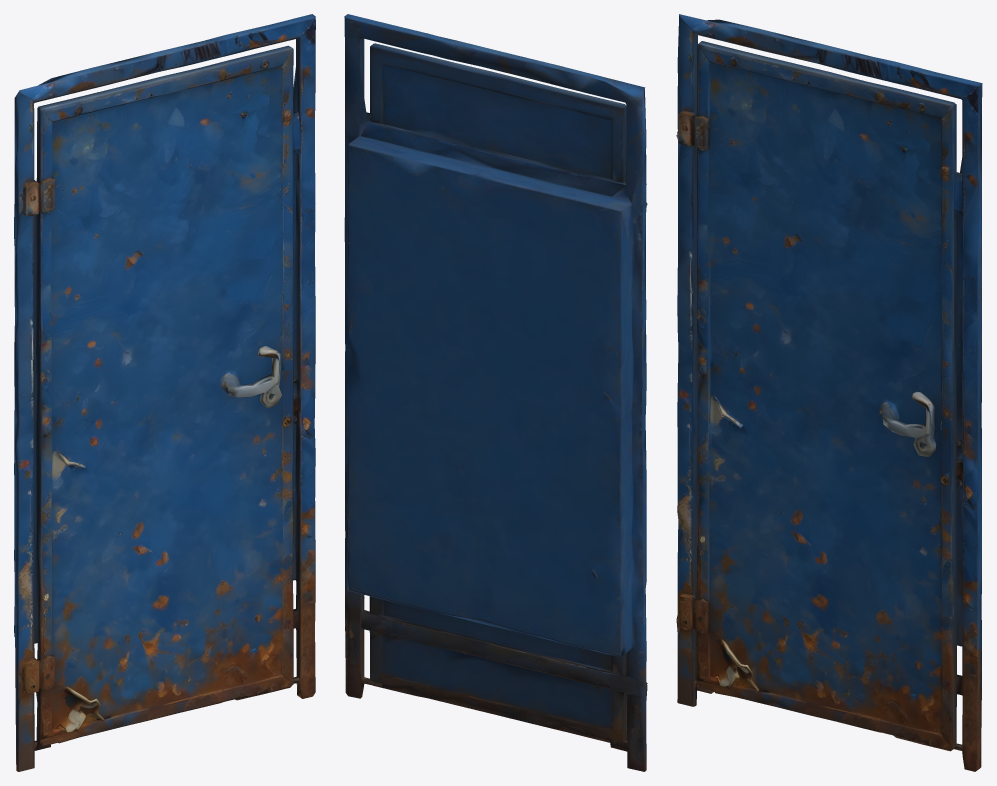
File: level-xw0-blue-door.glb
3 renders of one model, left to right at view 1: azimuth 30°, elevation 25°; view 2: azimuth 150°, elevation 25°; view 3: azimuth 330°, elevation 25°, orthographic.
Parts seen in each view (by area): view 1: tripo_node_d5b39042-739c-4999-9ec3-1a44aa424415; view 2: tripo_node_d5b39042-739c-4999-9ec3-1a44aa424415; view 3: tripo_node_d5b39042-739c-4999-9ec3-1a44aa424415.
Part boxes in pixels (x1,y1,x2,y2): tripo_node_d5b39042-739c-4999-9ec3-1a44aa424415: (14, 14, 315, 771); tripo_node_d5b39042-739c-4999-9ec3-1a44aa424415: (344, 14, 647, 771); tripo_node_d5b39042-739c-4999-9ec3-1a44aa424415: (676, 14, 982, 771).
Size of the model in its own units: 0.96 by 2.1 by 0.12.
1 material, 1 textured.
